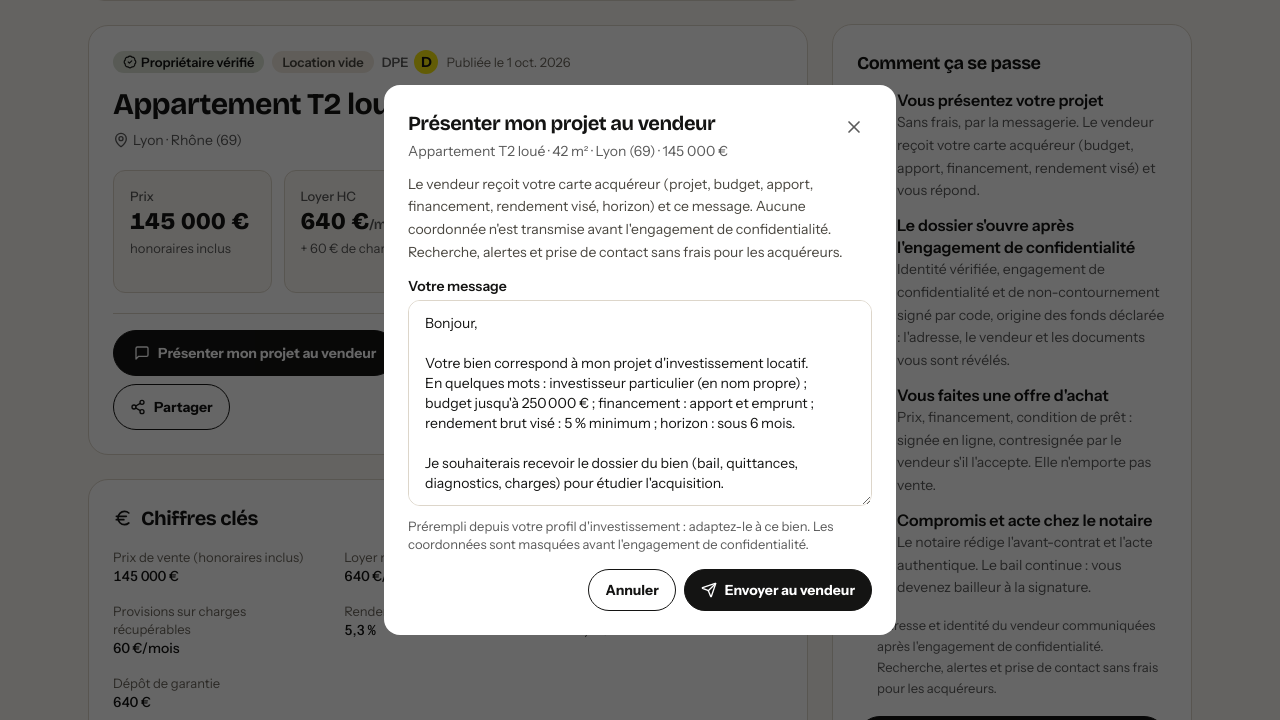
Test case: PropertyDetail (parcours acquéreur) › acquéreur : 403 profile_incomplete → message et lien vers le profil
Earlier steps of the test are not shown.
(page scrolled)
Click the button with test id "contact-send-btn" at (778, 590), box [684, 570, 872, 612]
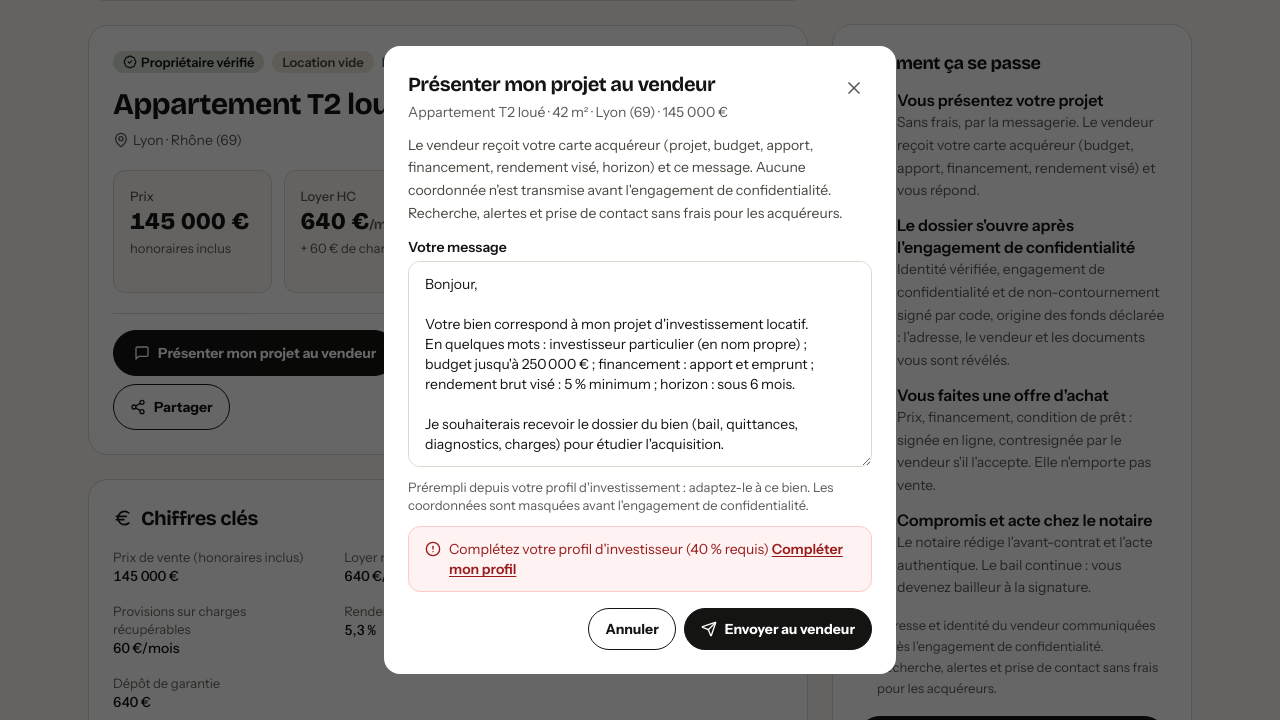
Check: the message with test id "contact-error" shows "40 %", box [449, 540, 769, 558]
